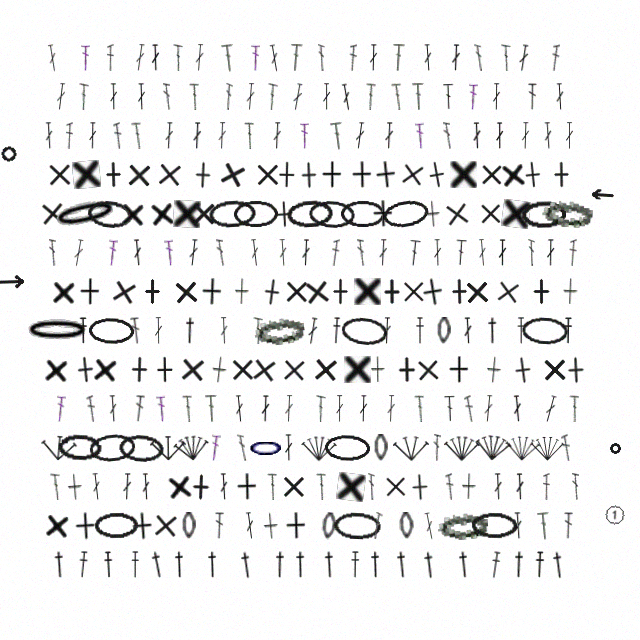chain: (50, 194, 121, 234), (24, 317, 91, 344), (253, 314, 306, 348), (381, 197, 430, 231), (437, 510, 489, 542), (340, 315, 389, 347), (86, 198, 134, 230), (88, 432, 137, 463), (542, 199, 593, 228), (308, 199, 355, 229), (118, 433, 165, 463), (208, 199, 256, 228), (521, 316, 569, 345), (333, 511, 381, 540), (286, 199, 333, 228), (57, 433, 103, 462), (88, 317, 135, 345), (324, 434, 371, 462), (521, 200, 566, 228), (233, 200, 279, 227), (340, 200, 386, 227), (471, 512, 517, 539), (94, 512, 139, 539), (247, 434, 285, 461), (321, 512, 337, 540), (399, 512, 414, 539), (437, 317, 451, 344), (374, 434, 388, 461), (182, 512, 196, 539)
double: (221, 44, 236, 72), (330, 122, 345, 150), (543, 395, 558, 423), (537, 512, 551, 540), (289, 44, 303, 71), (46, 44, 59, 72), (268, 44, 281, 72), (517, 44, 530, 72), (291, 83, 304, 111), (340, 83, 353, 111), (72, 239, 85, 267), (408, 239, 421, 267), (306, 317, 319, 345), (423, 512, 436, 540), (392, 44, 405, 71), (412, 83, 425, 110), (205, 395, 218, 422), (134, 44, 146, 71), (55, 83, 67, 110), (266, 83, 278, 110), (364, 83, 376, 110), (391, 83, 403, 110), (131, 122, 143, 149), (354, 122, 366, 149), (249, 239, 261, 266), (455, 239, 467, 266), (130, 317, 142, 344), (444, 395, 456, 422), (209, 434, 221, 461), (50, 473, 62, 500), (244, 512, 256, 539), (371, 512, 383, 539), (194, 44, 205, 71), (78, 83, 89, 110), (245, 83, 256, 110), (443, 83, 454, 110), (107, 239, 118, 266), (132, 239, 143, 266), (164, 239, 175, 266), (188, 239, 199, 266), (477, 239, 488, 266), (55, 395, 66, 422), (86, 395, 97, 422), (134, 395, 145, 422), (156, 395, 167, 422), (182, 395, 193, 422), (234, 395, 245, 422), (315, 395, 326, 422), (414, 395, 425, 422), (464, 395, 475, 422), (483, 395, 494, 422), (512, 395, 523, 422), (237, 434, 248, 461), (561, 434, 572, 461), (91, 473, 102, 500), (173, 44, 183, 71), (423, 44, 433, 71), (451, 44, 461, 71), (474, 44, 484, 71), (501, 44, 511, 71), (550, 44, 560, 71), (189, 83, 199, 110), (468, 83, 478, 110), (555, 83, 565, 110), (44, 122, 54, 149), (113, 122, 123, 149), (164, 122, 174, 149), (192, 122, 202, 149), (217, 122, 227, 149), (244, 122, 254, 149), (272, 122, 282, 149), (384, 122, 394, 149), (415, 122, 425, 149), (472, 122, 482, 149), (543, 122, 553, 149), (278, 239, 288, 266), (301, 239, 311, 266), (378, 239, 388, 266), (219, 317, 229, 344), (253, 317, 263, 344), (382, 317, 392, 344), (463, 317, 473, 344), (108, 395, 118, 422), (284, 395, 294, 422), (386, 395, 396, 422), (569, 395, 579, 422), (122, 473, 132, 500), (141, 473, 151, 500), (219, 473, 229, 500), (267, 473, 277, 500), (316, 473, 326, 500), (445, 473, 455, 500), (493, 473, 503, 500), (515, 473, 525, 500), (513, 512, 523, 539), (81, 44, 90, 71), (151, 44, 160, 71), (251, 44, 260, 71), (369, 44, 378, 71), (109, 83, 118, 110), (137, 83, 146, 110), (224, 83, 233, 110), (322, 83, 331, 110), (492, 83, 501, 110), (528, 83, 537, 110), (88, 122, 97, 149), (300, 122, 309, 149), (443, 122, 452, 149), (495, 122, 504, 149), (521, 122, 530, 149), (565, 122, 574, 149), (216, 239, 225, 266), (331, 239, 340, 266), (433, 239, 442, 266), (498, 239, 507, 266), (546, 239, 555, 266), (154, 317, 163, 344), (261, 395, 270, 422), (335, 395, 344, 422), (359, 395, 368, 422), (284, 434, 293, 461), (432, 434, 441, 461), (215, 512, 224, 539), (564, 512, 573, 539), (349, 44, 357, 71), (163, 83, 171, 110), (357, 239, 365, 266), (569, 239, 577, 266), (107, 44, 114, 71), (318, 44, 325, 71), (66, 122, 73, 149), (49, 239, 56, 266), (528, 239, 535, 266), (368, 473, 375, 500), (543, 473, 550, 500), (572, 473, 579, 500)
fan: (172, 432, 211, 463), (474, 432, 512, 463), (40, 433, 78, 462), (504, 433, 541, 462), (301, 434, 337, 462), (393, 434, 429, 462), (444, 434, 480, 462), (150, 434, 186, 461), (530, 434, 565, 461)
half_double: (148, 550, 167, 579), (238, 551, 255, 579), (421, 551, 438, 579), (550, 551, 567, 579), (182, 317, 198, 344), (272, 551, 288, 578), (394, 551, 410, 578), (456, 551, 472, 578), (511, 551, 527, 578), (485, 317, 500, 344), (52, 551, 67, 578), (172, 551, 187, 578), (205, 551, 220, 578), (293, 551, 308, 578), (322, 551, 337, 578), (368, 551, 383, 578), (489, 551, 502, 579), (77, 551, 89, 578), (331, 317, 342, 344), (103, 551, 114, 578), (534, 551, 545, 578), (78, 317, 88, 344), (415, 317, 425, 344), (516, 317, 526, 344), (563, 317, 573, 344), (130, 551, 140, 578), (350, 551, 360, 578)
noise: (603, 503, 626, 526), (0, 273, 26, 290), (0, 143, 19, 164), (589, 189, 614, 200), (608, 441, 622, 455)
single: (216, 158, 249, 191), (108, 276, 140, 308), (397, 159, 428, 190), (421, 159, 452, 190), (442, 199, 472, 229), (501, 199, 531, 229), (257, 277, 287, 307), (302, 277, 332, 307), (493, 277, 523, 307), (249, 355, 279, 385), (508, 355, 538, 385), (336, 472, 366, 502), (72, 160, 101, 189), (155, 160, 184, 189), (518, 160, 547, 189), (38, 199, 67, 228), (71, 355, 100, 384), (178, 355, 207, 384), (311, 355, 340, 384), (151, 511, 180, 540), (166, 472, 194, 501), (125, 161, 153, 189), (189, 161, 217, 189), (295, 161, 323, 189), (173, 200, 201, 228), (270, 200, 298, 228), (172, 278, 200, 306), (463, 278, 491, 306), (280, 356, 308, 384), (414, 356, 442, 384), (562, 356, 590, 384), (187, 473, 215, 501), (406, 473, 434, 501), (500, 160, 527, 189), (149, 199, 176, 228), (92, 355, 119, 384), (44, 511, 71, 540), (43, 356, 70, 384), (420, 277, 445, 307), (46, 161, 73, 188), (100, 161, 127, 188), (254, 161, 281, 188), (273, 161, 300, 188), (450, 161, 477, 188), (478, 161, 505, 188), (548, 161, 575, 188), (190, 200, 217, 227), (477, 200, 504, 227), (139, 278, 166, 305), (283, 278, 310, 305), (327, 278, 354, 305), (354, 278, 381, 305), (378, 278, 405, 305), (400, 278, 427, 305), (446, 278, 473, 305), (528, 278, 555, 305), (126, 356, 153, 383), (151, 356, 178, 383), (229, 356, 256, 383), (344, 356, 371, 383), (393, 356, 420, 383), (541, 356, 568, 383), (280, 473, 307, 500), (382, 473, 409, 500), (120, 200, 146, 228), (51, 278, 77, 306), (374, 160, 397, 189), (74, 512, 96, 540), (131, 512, 153, 540), (321, 161, 342, 188), (351, 161, 372, 188), (372, 200, 393, 227), (79, 278, 100, 305), (201, 278, 222, 305), (448, 356, 469, 383), (236, 473, 257, 500), (285, 512, 306, 539), (211, 356, 228, 384), (425, 200, 441, 228), (486, 356, 502, 384), (67, 473, 83, 501), (263, 512, 279, 540), (563, 278, 578, 305), (235, 278, 249, 305), (371, 356, 385, 383), (462, 473, 476, 500)
